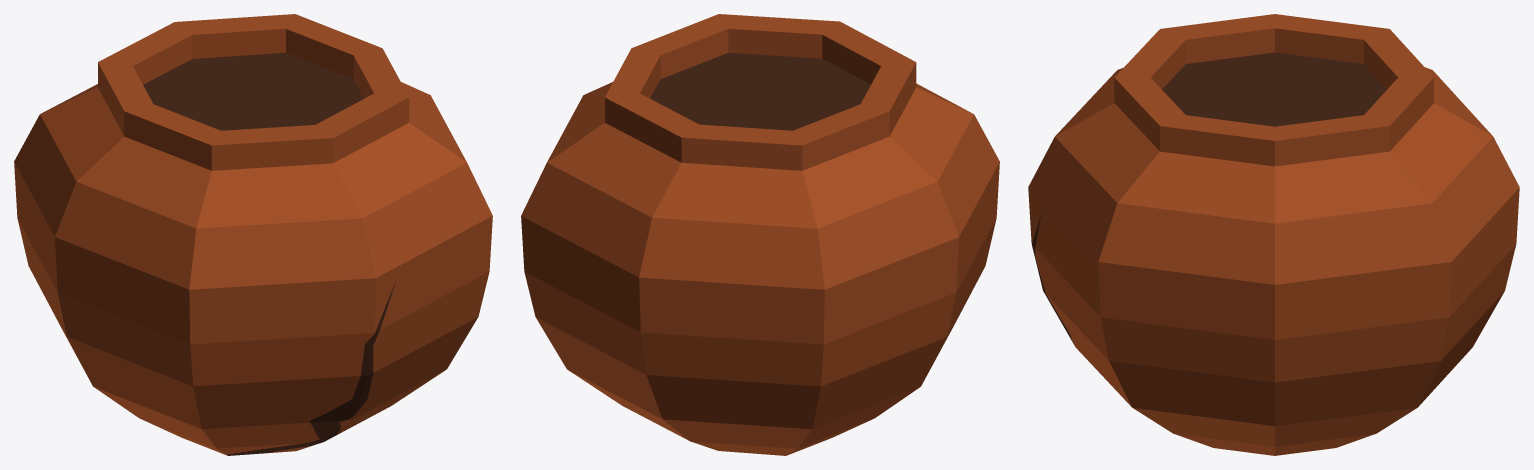
The model's file is ong.fbx.
3 renders of one model, left to right at view 1: azimuth 30°, elevation 25°; view 2: azimuth 150°, elevation 25°; view 3: azimuth 270°, elevation 25°, orthographic.
Parts seen in each view (by area): view 1: Cube; view 2: Cube; view 3: Cube.
Boxes of the visible parts, x1,y1,x2,y2 form: Cube: (14, 14, 492, 455); Cube: (521, 14, 999, 455); Cube: (1028, 14, 1519, 455).
Size of the model in its own units: 402 by 329 by 428.
1 material, 1 textured.
